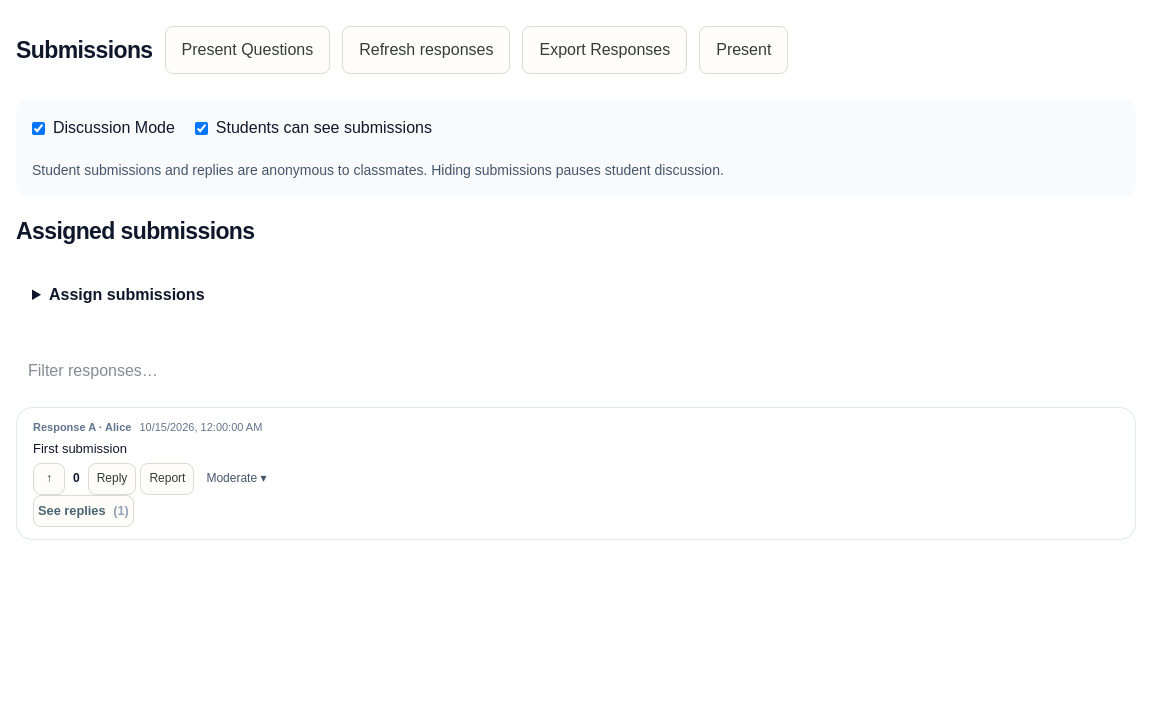
Test: presentation hides names and keeps replies collapsed, Escape exits without fullscreen support
Expected: the text "Response A · Alice" is shown, [33, 420, 131, 435]
Click the button "Present" at (744, 50), box [699, 26, 788, 74]
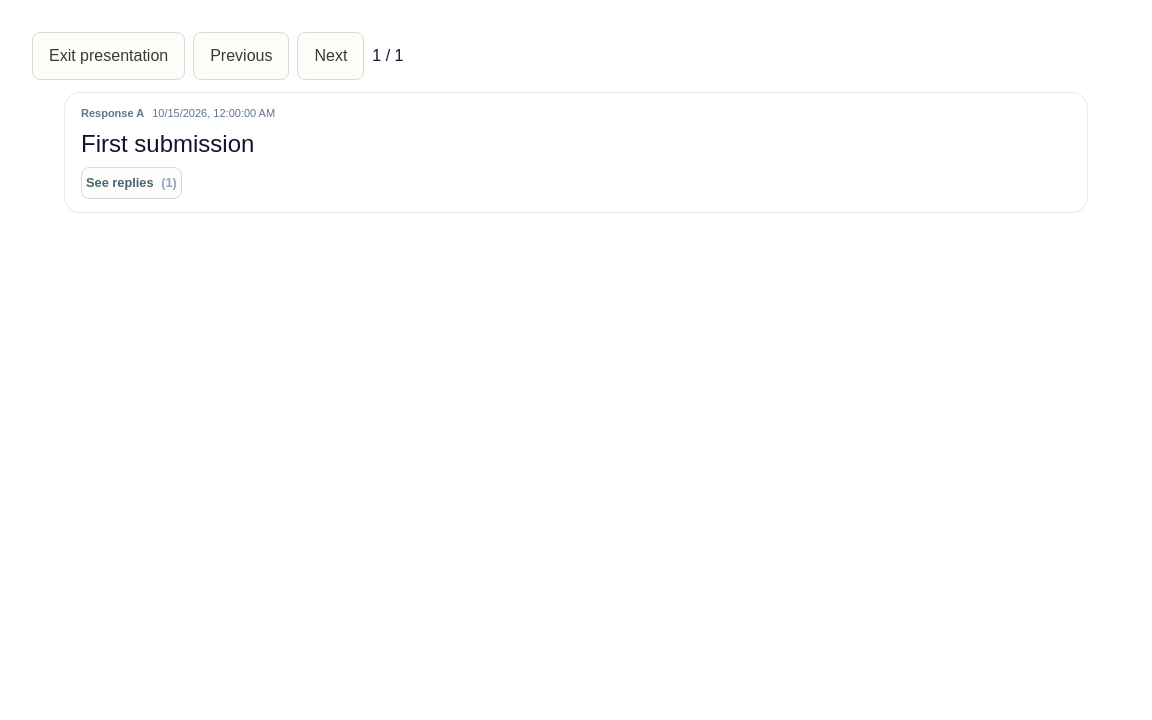
Expected: the text "Helpful feedback" is not shown
Now the text "Alice" is gone
Now the button "Next" is disabled, box [297, 32, 364, 80]
Click the button "See replies (1)" at (131, 183), box [81, 167, 182, 199]
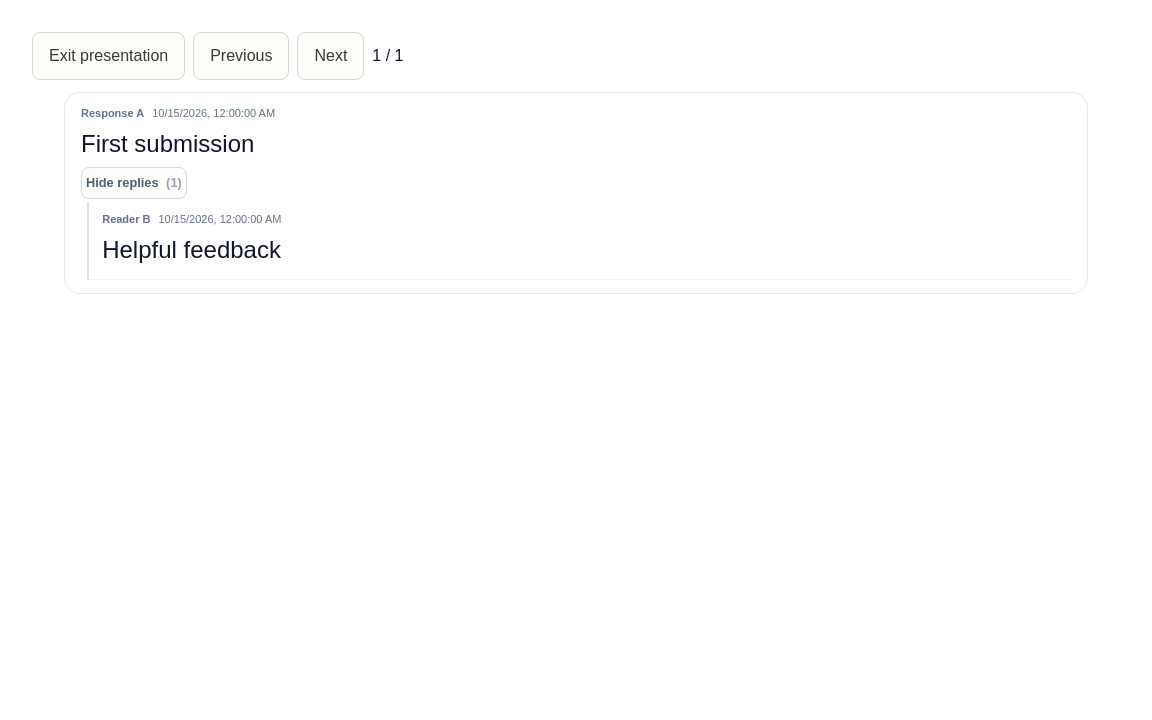
Now the text "Helpful feedback" is shown, box [102, 236, 281, 263]
Press Escape
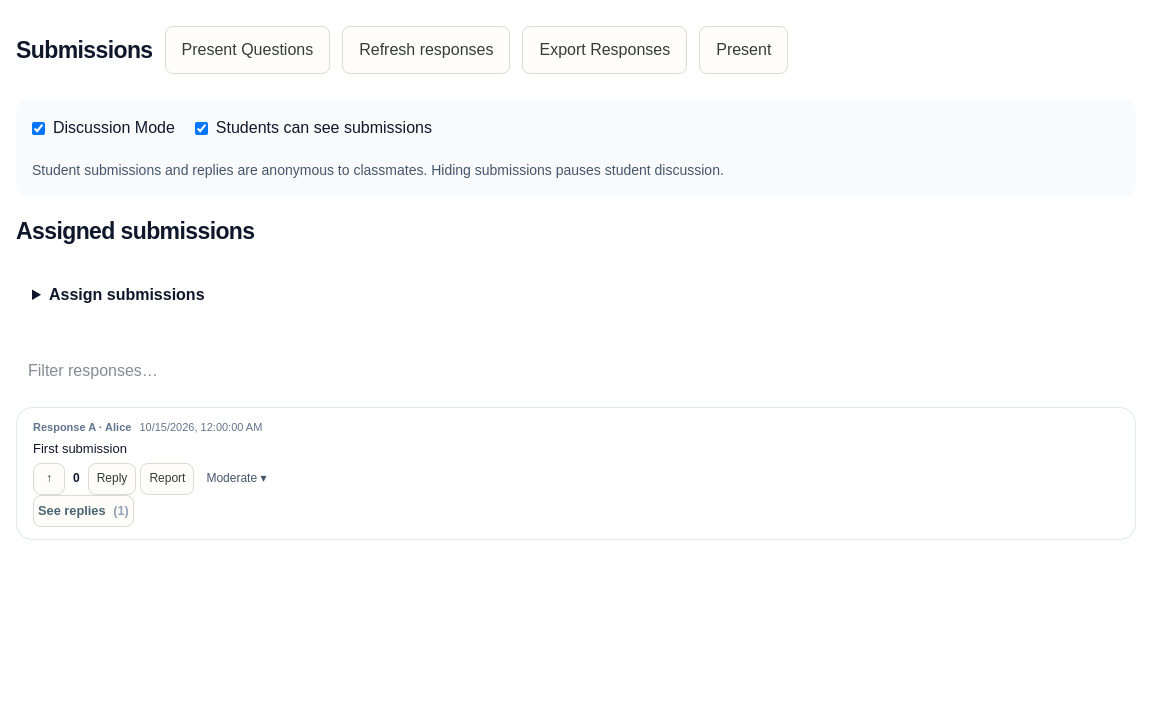
Now the button "Present" is shown, box [699, 26, 788, 74]
